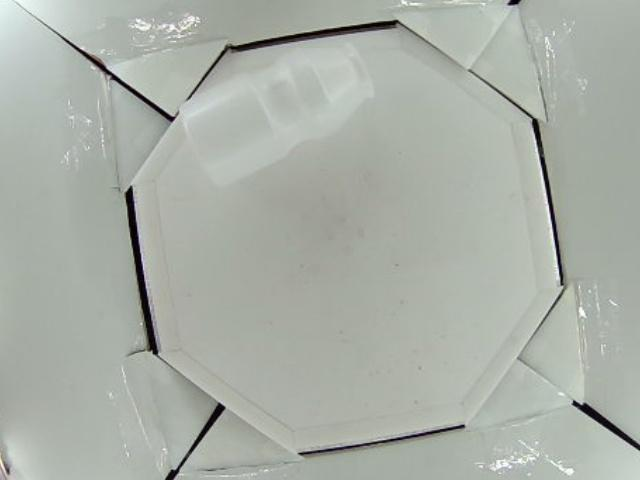Bottle: (179, 42, 375, 195)
